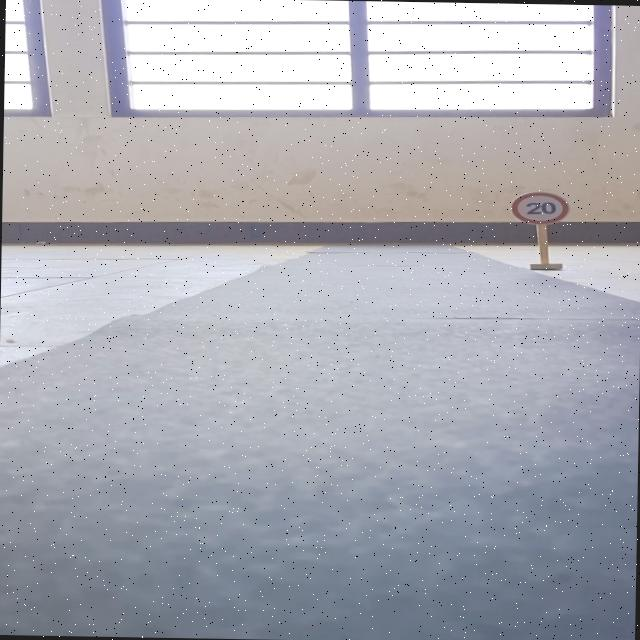Speed20: (506, 185, 578, 232)
